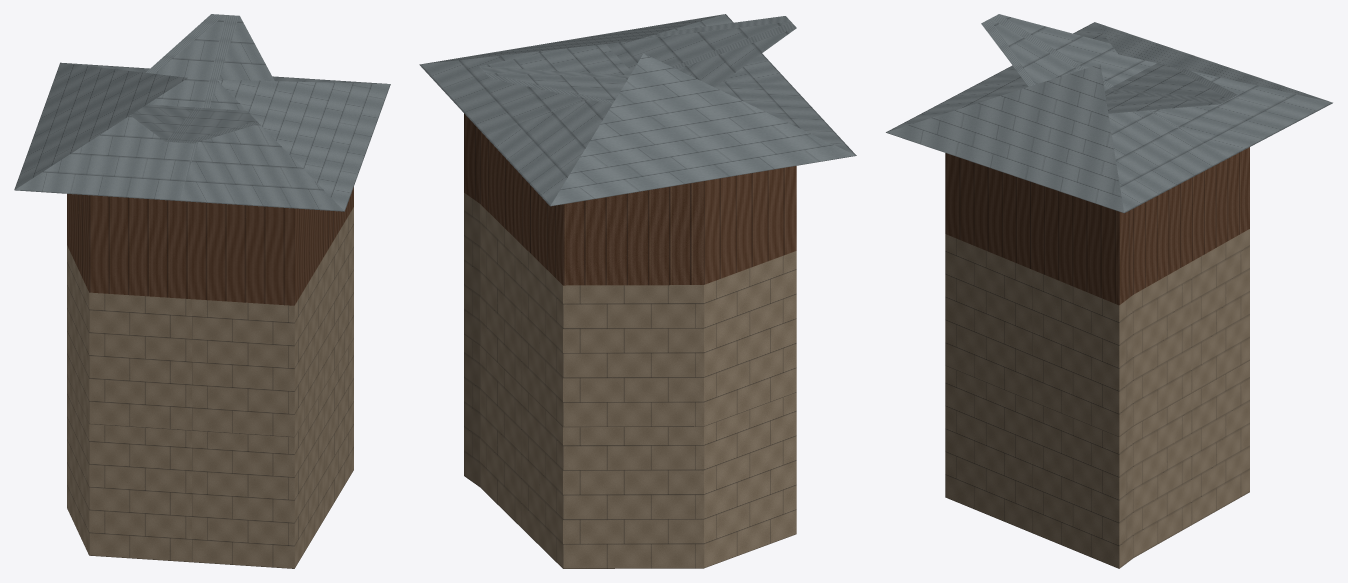
Rendered from bld_c-7_36_387.gltf.
3 renders of one model, left to right at view 1: azimuth 30°, elevation 25°; view 2: azimuth 150°, elevation 25°; view 3: azimuth 270°, elevation 25°, orthographic. The views are drawn at different scales.
Visible parts, largest first — view 1: bld_c-7_36_387; view 2: bld_c-7_36_387; view 3: bld_c-7_36_387.
Boxes of the visible parts, <box> form: bld_c-7_36_387: <box>14,14,390,568</box>; bld_c-7_36_387: <box>419,14,856,568</box>; bld_c-7_36_387: <box>886,14,1332,568</box>.
Bounding box in the file's own units: 7.01 × 7.4 × 6.94.
Materials: 3 (3 with a texture image).
